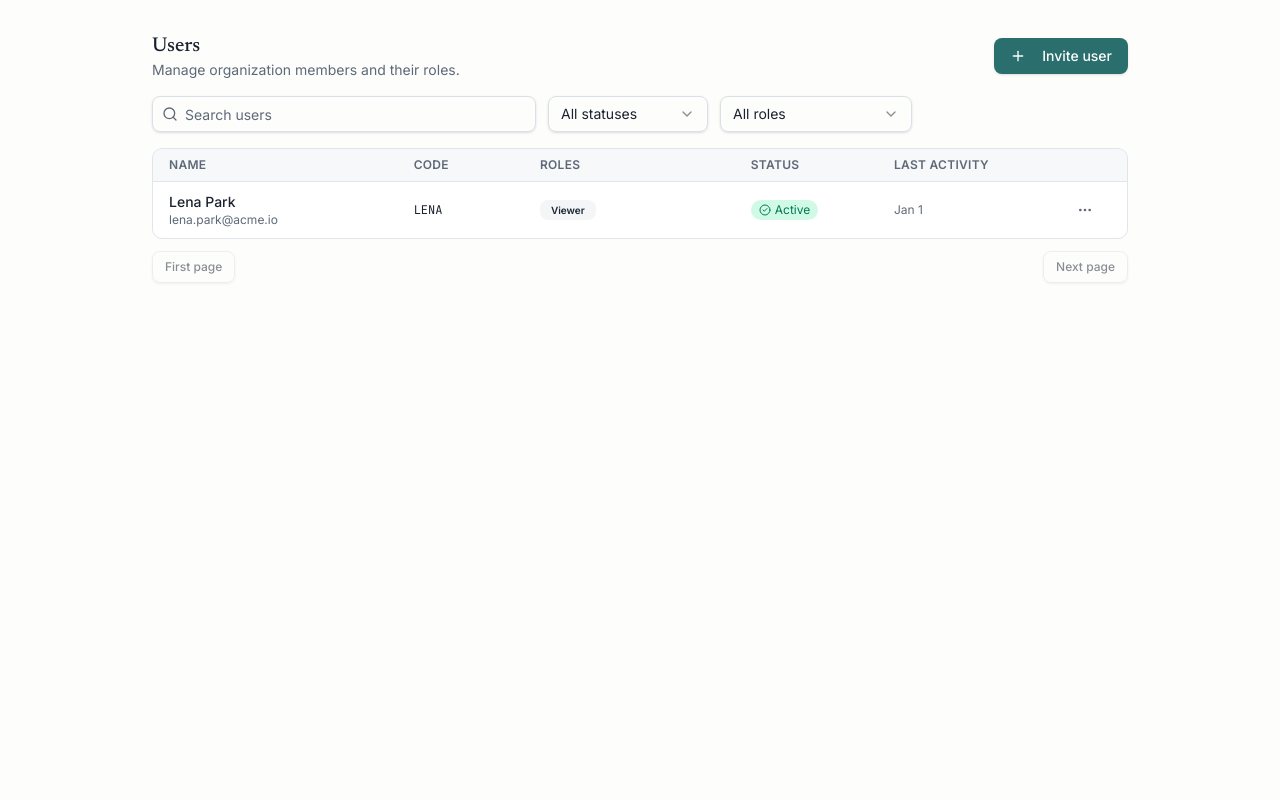
Scenario: AdminUsers › shows password mismatch before submit
The width and height of the screenshot is (1280, 800).
Expected: the text "Lena Park" is shown, [169,193,236,210]
Step 1. Click the button named "Actions" → [1085, 210], box [1071,196,1099,224]
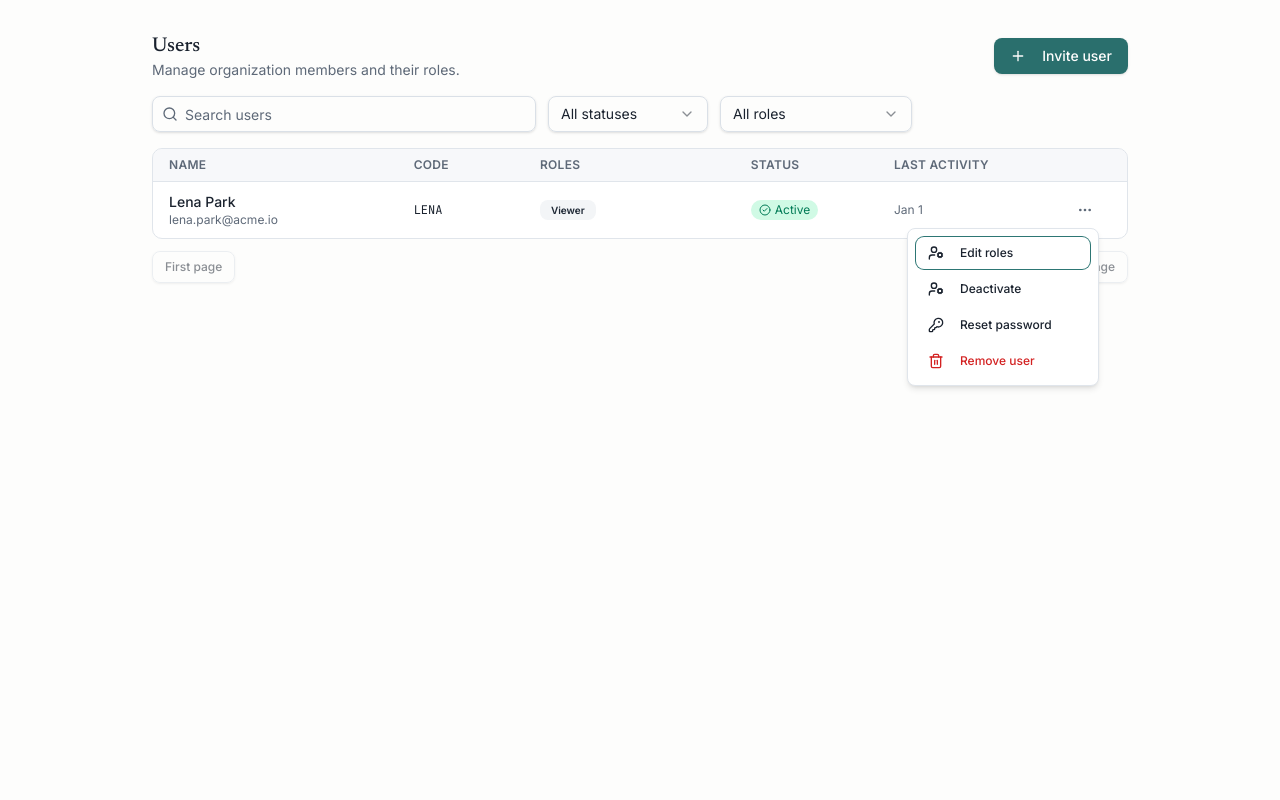
Step 2. Click the button "Reset password" → [1003, 325], box [916,309,1090,341]
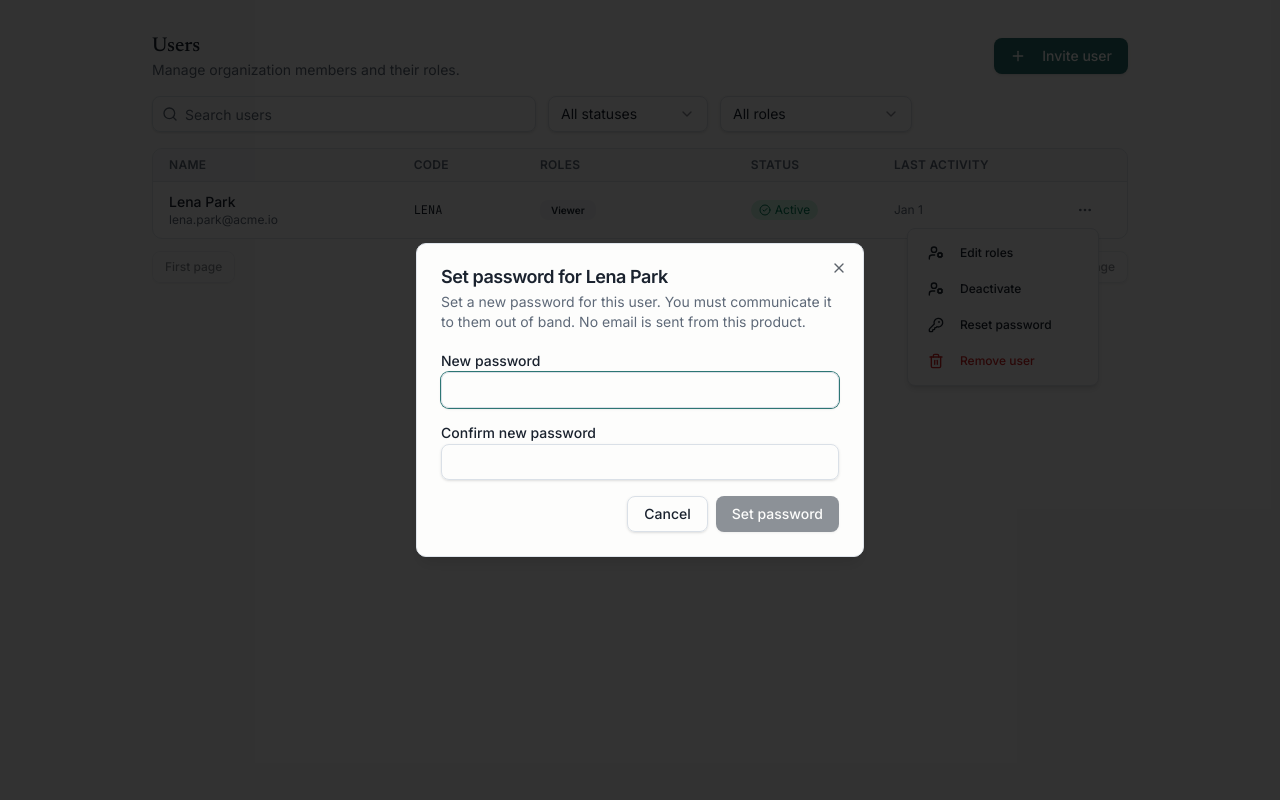
Step 3. Type "aaa" into the password field labelled "New password" → [640, 390], box [441,372,839,408]
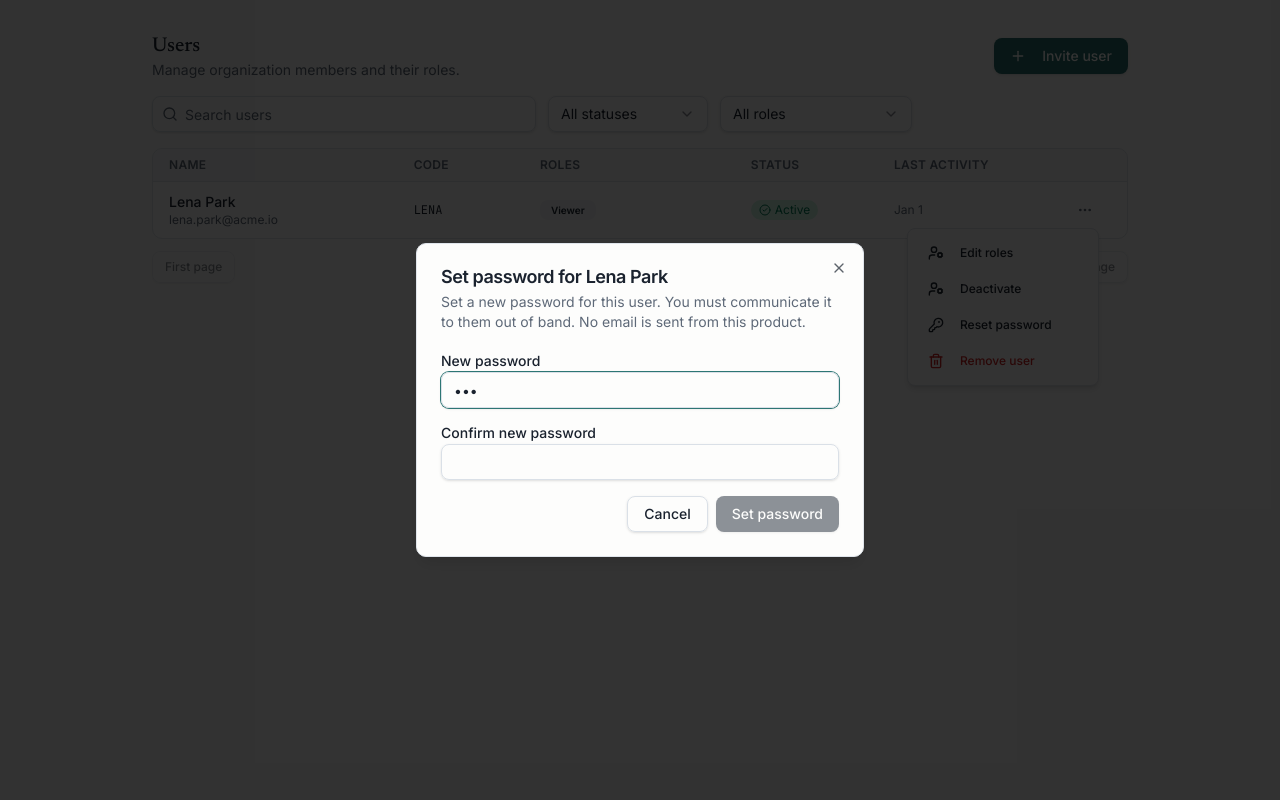
Step 4. Type "bbb" into the password field labelled "Confirm new password" → [640, 462], box [441,444,839,480]
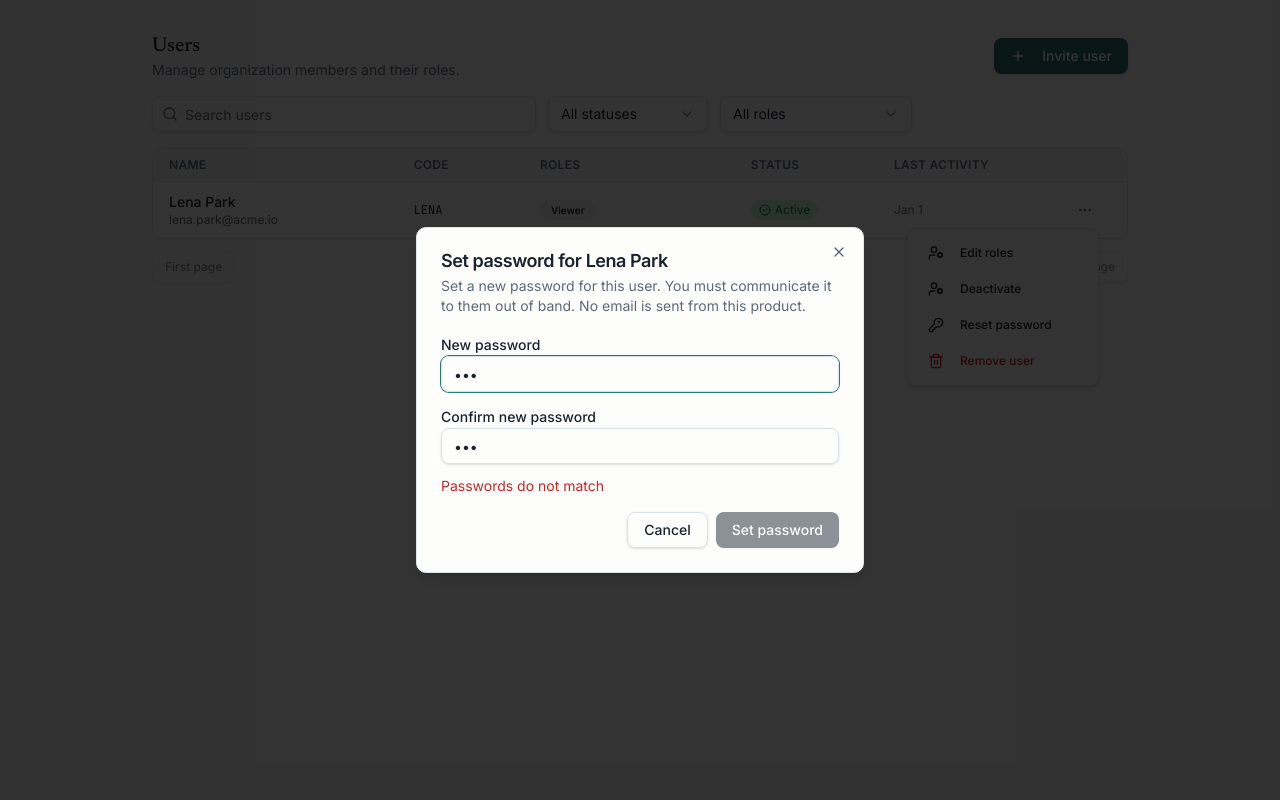
Result: the text "Passwords do not match" is shown at [441,477,604,494]
